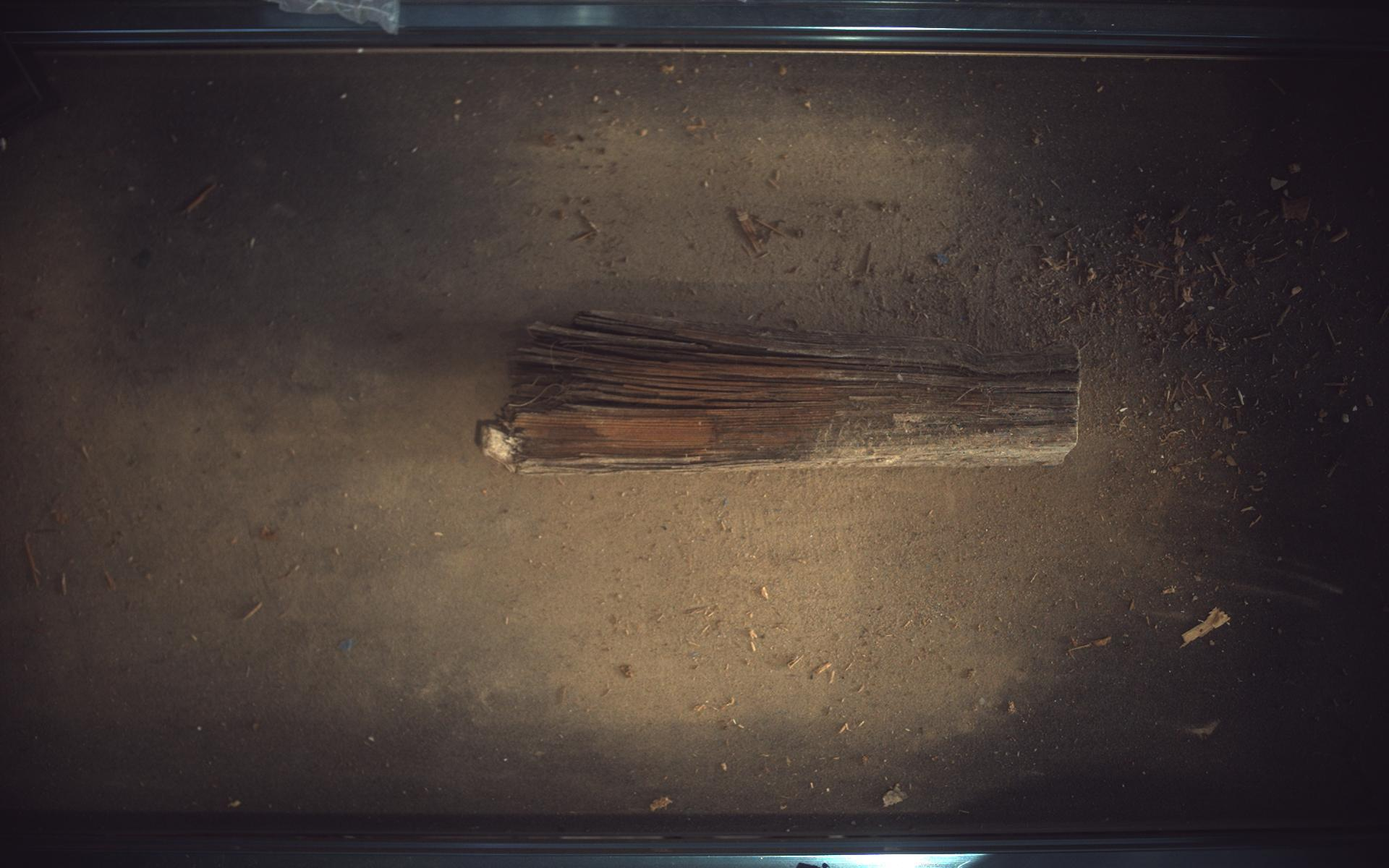wood: (478, 311, 1082, 474)
